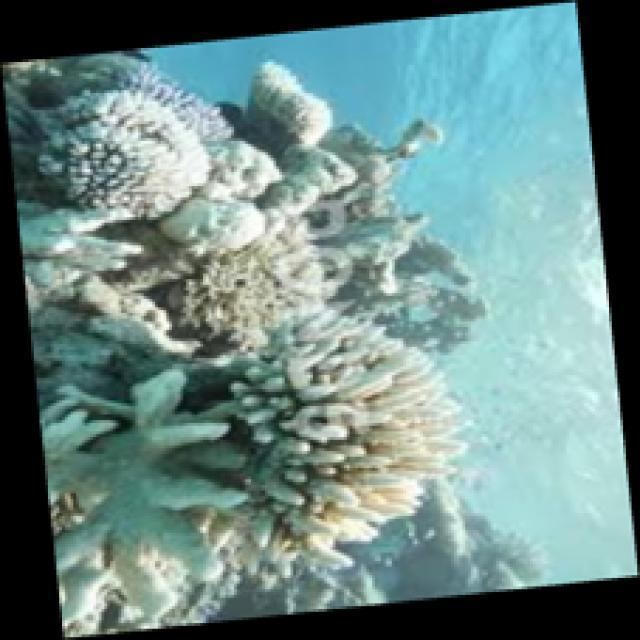Bleached: (225, 305, 470, 571), (35, 372, 250, 629), (43, 90, 209, 214), (172, 233, 306, 353), (15, 202, 147, 297), (265, 145, 363, 237), (121, 63, 233, 141), (251, 58, 334, 147), (159, 198, 265, 261), (200, 142, 286, 198)
